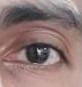open: (2, 31, 80, 80)
